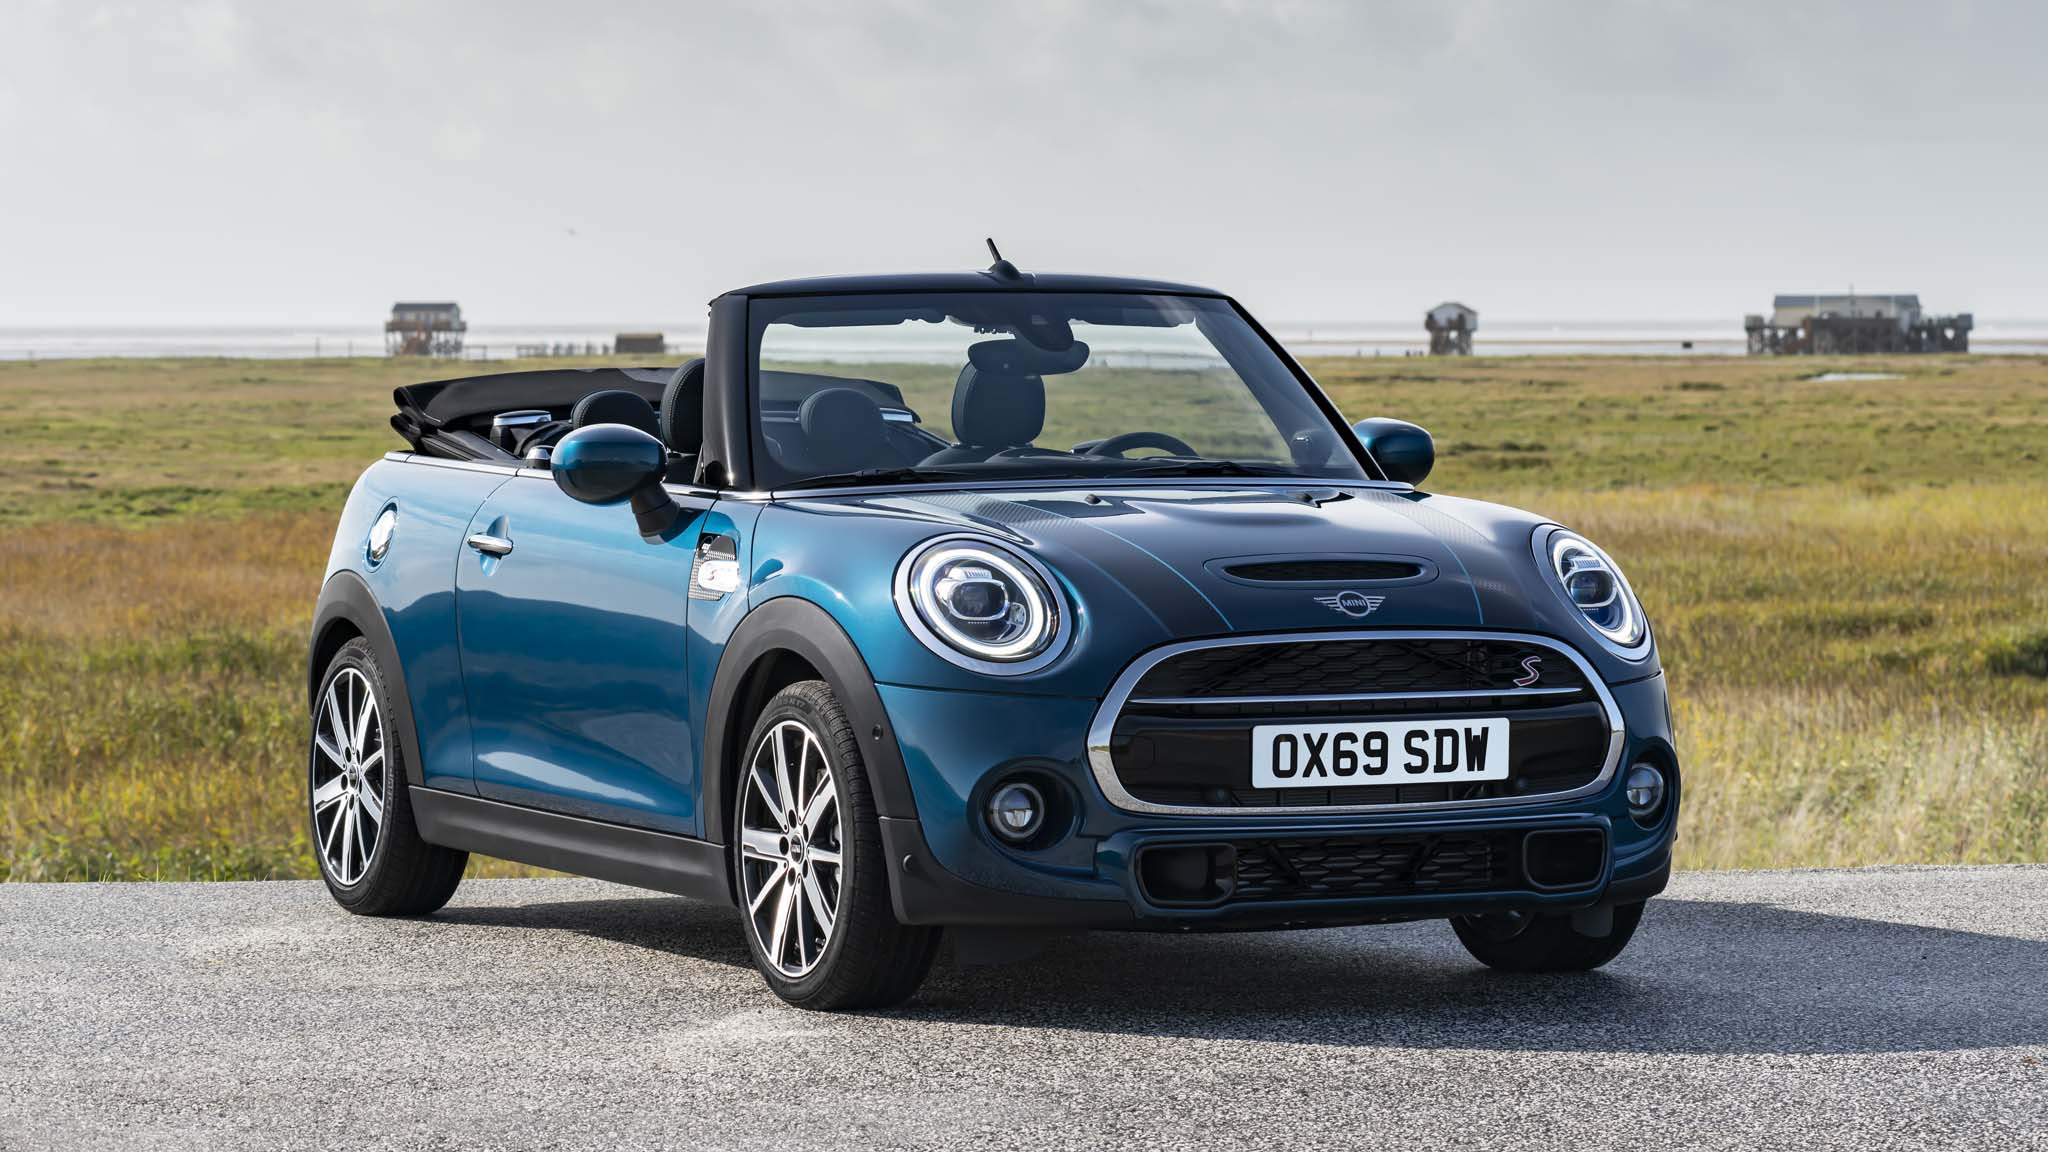car: (307, 270, 1679, 1011)
